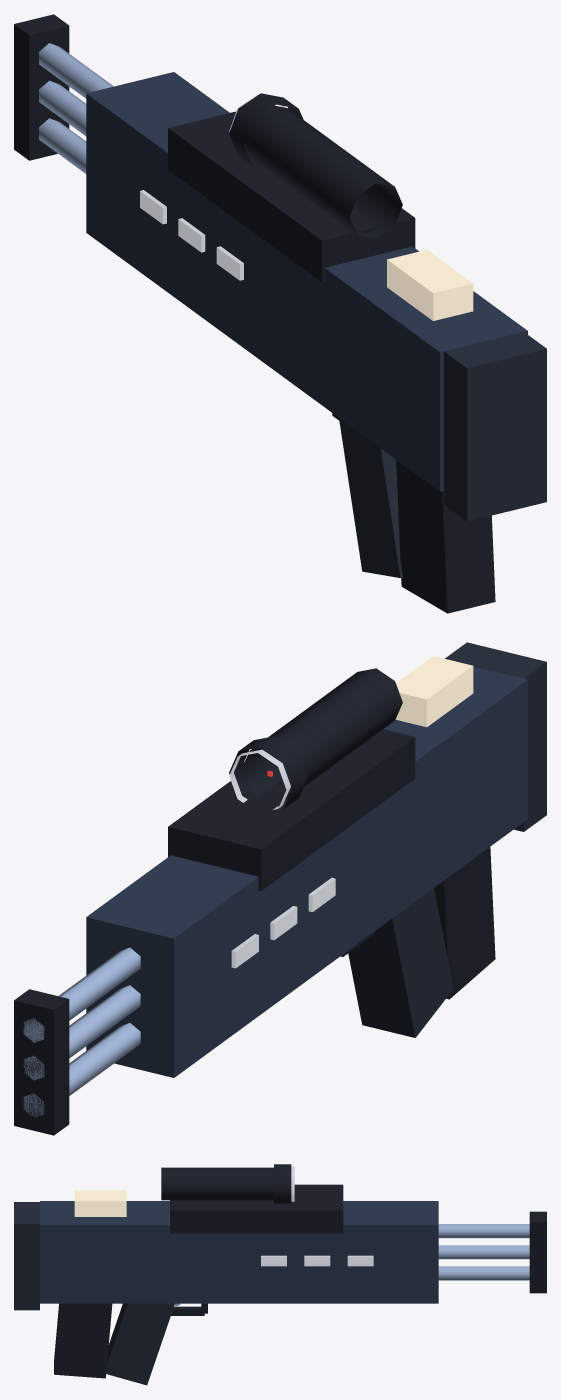
The model's file is BO_SK_Weapon_Burst_v001.glb.
The picture shows the model from 3 angles, top to bottom: view 1: azimuth 30°, elevation 25°; view 2: azimuth 150°, elevation 25°; view 3: azimuth 270°, elevation 25°; orthographic projection. The views are drawn at different scales.
Visible parts, largest first — view 1: body_000, body_016, body_001, body_015, attachment_002, body_011, body_010, glowfx_023, body_009, attachment_003, body_007, body_008; view 2: body_000, body_001, body_011, attachment_002, body_010, body_015, body_016, glowfx_023, body_009, body_008, body_007, attachment_003 (+1 smaller); view 3: body_000, body_001, body_015, body_011, attachment_002, body_016, body_010, glowfx_023, body_007, body_008, body_009, attachment_003 (+4 smaller).
Boxes of the visible parts, box(x1,y1,x2,y2) form: body_000: box(86, 72, 527, 491); body_016: box(444, 332, 546, 521); body_001: box(168, 111, 415, 282); body_015: box(396, 460, 495, 613); attachment_002: box(244, 105, 402, 238); body_011: box(339, 418, 402, 577); body_010: box(14, 14, 69, 160); glowfx_023: box(387, 250, 473, 320); body_009: box(39, 43, 113, 98); attachment_003: box(229, 93, 303, 166); body_007: box(39, 118, 86, 173); body_008: box(39, 80, 86, 136); body_000: box(86, 666, 527, 1077); body_001: box(168, 729, 415, 891); body_011: box(348, 888, 453, 1037); attachment_002: box(242, 668, 402, 800); body_010: box(14, 989, 69, 1135); body_015: box(434, 847, 495, 999); body_016: box(445, 642, 546, 831); glowfx_023: box(395, 656, 473, 727); body_009: box(23, 947, 140, 1042); body_008: box(23, 985, 140, 1080); body_007: box(23, 1023, 140, 1117); attachment_003: box(229, 736, 307, 809); body_000: box(40, 1201, 438, 1303); body_001: box(170, 1184, 343, 1233); body_015: box(54, 1303, 112, 1378); body_011: box(104, 1303, 174, 1385); attachment_002: box(161, 1167, 273, 1200); body_016: box(14, 1202, 39, 1310); body_010: box(529, 1211, 546, 1293); glowfx_023: box(74, 1190, 126, 1216); body_007: box(438, 1266, 529, 1280); body_008: box(438, 1245, 529, 1259); body_009: box(438, 1224, 529, 1238); attachment_003: box(274, 1164, 291, 1203).
Bounding box in the file's own units: 0.072 × 0.2712 × 0.615.
